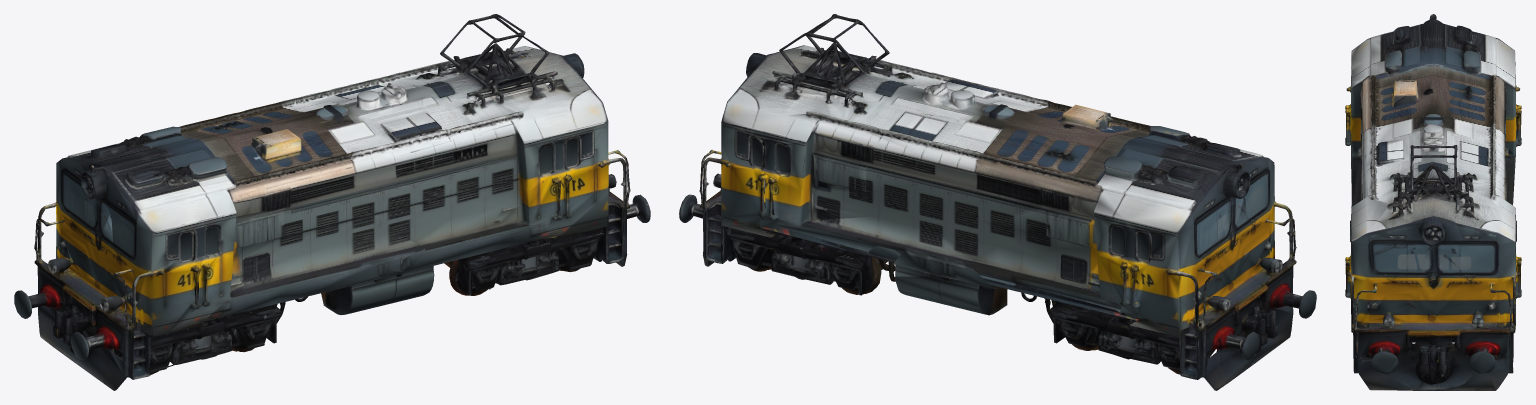
Rendered from LocomotiveV2.fbx.
3 renders of one model, left to right at view 1: azimuth 30°, elevation 25°; view 2: azimuth 150°, elevation 25°; view 3: azimuth 270°, elevation 25°, orthographic. The views are drawn at different scales.
Parts seen in each view (by area): view 1: Mesh1.0; view 2: Mesh1.0; view 3: Mesh1.0.
Part boxes in pixels (<box>): Mesh1.0: <box>14,14,650,390</box>; Mesh1.0: <box>679,14,1316,390</box>; Mesh1.0: <box>1345,14,1521,390</box>.
Bounding box in the file's own units: 191 × 76.83 × 60.24.
Materials: 1 (1 with a texture image).
